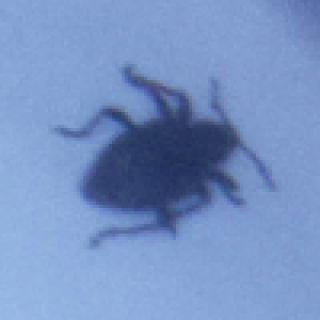bvw: (51, 58, 281, 253)
